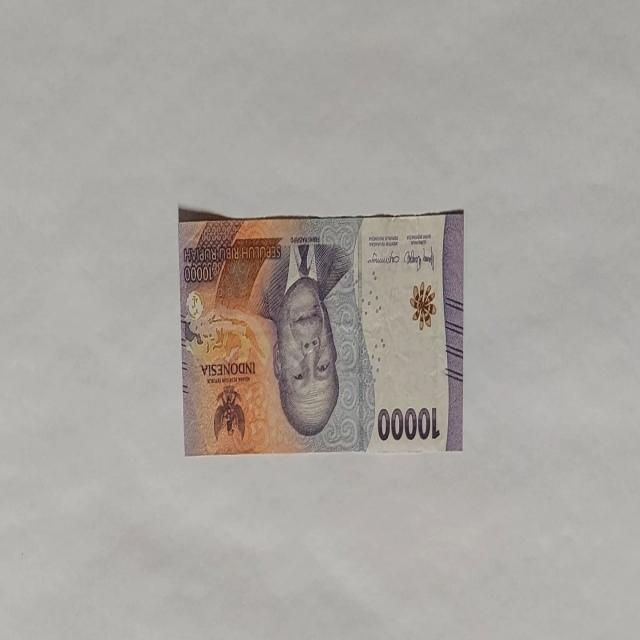sepuluh ribu rupiah: (178, 207, 464, 456)
